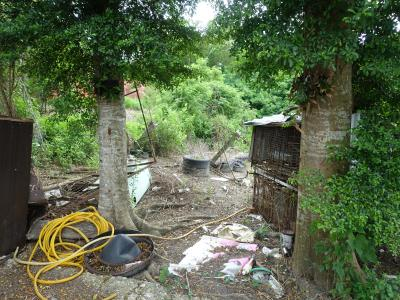bucket: (180, 153, 213, 179)
